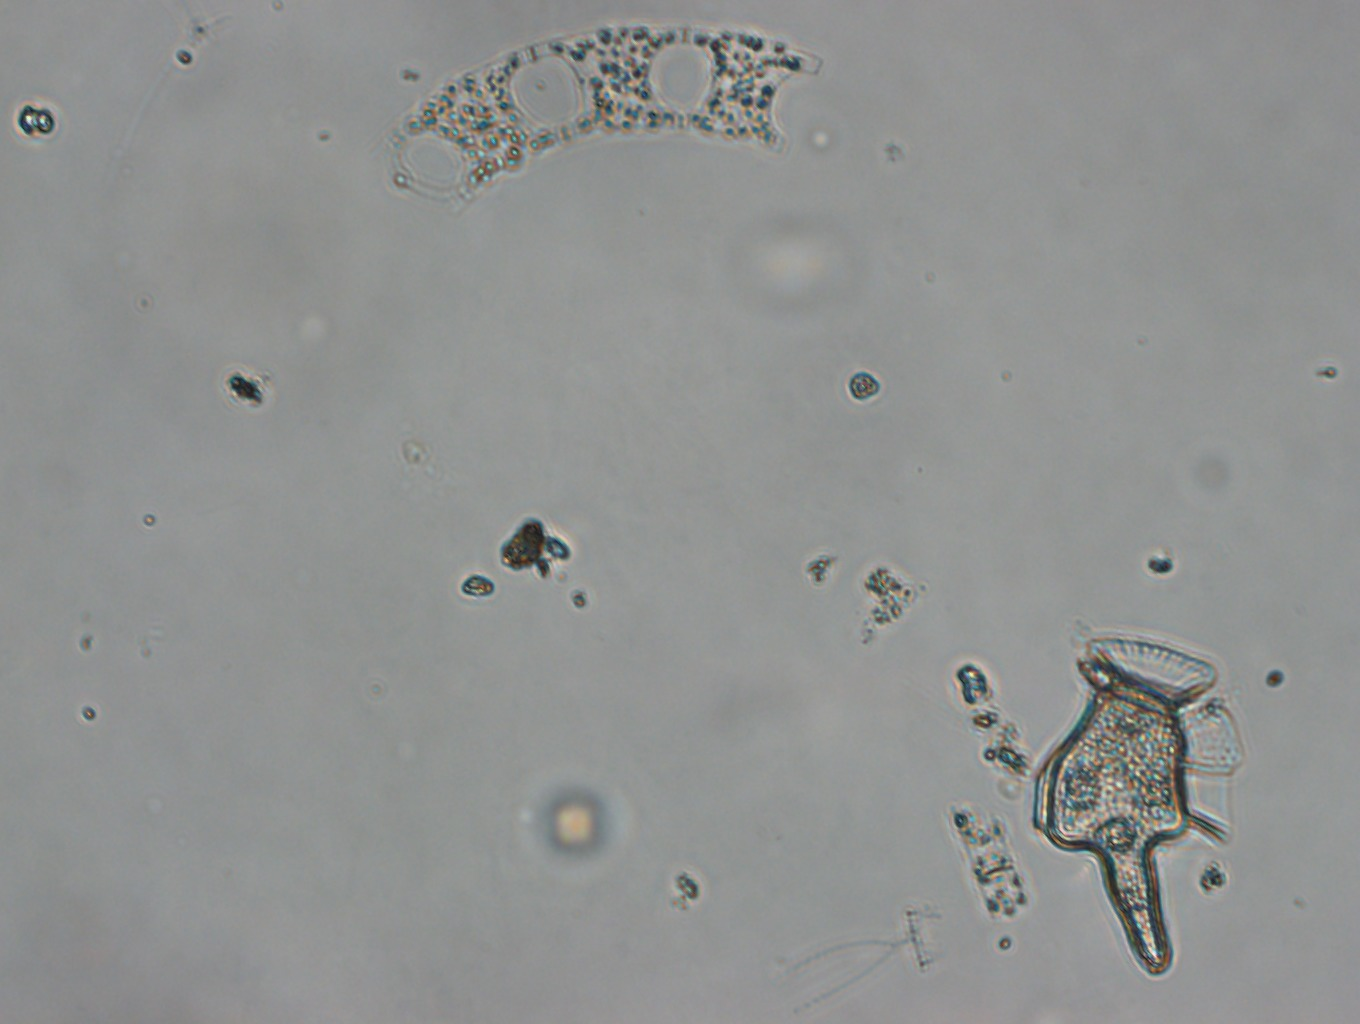dinophysis caudata: (1032, 640, 1236, 979)
eucampia: (393, 23, 835, 212)
